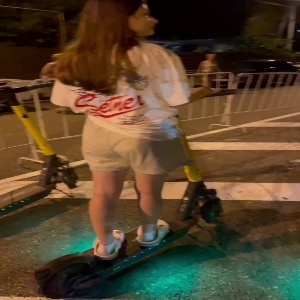human on a scooter: (26, 1, 237, 298)
